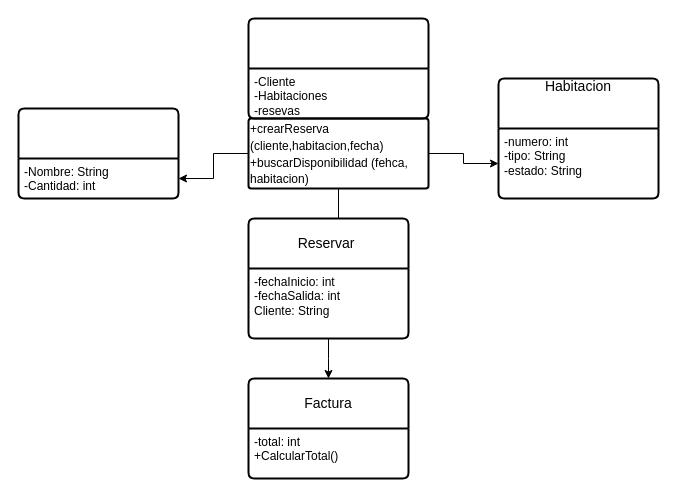
Image size: 676x496. Some labels were removed from this diagram. Each missing label, with the box of its shape:
Cliente: (17, 107, 179, 199)
Hotel: (247, 17, 429, 119)
